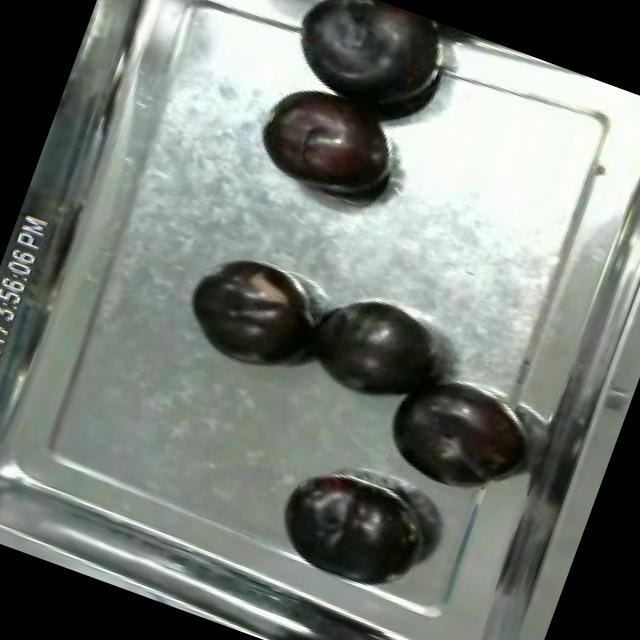Fruit: (260, 449, 434, 605), (242, 67, 416, 220), (273, 0, 459, 137), (370, 358, 540, 506), (170, 240, 332, 386), (296, 282, 452, 422)
